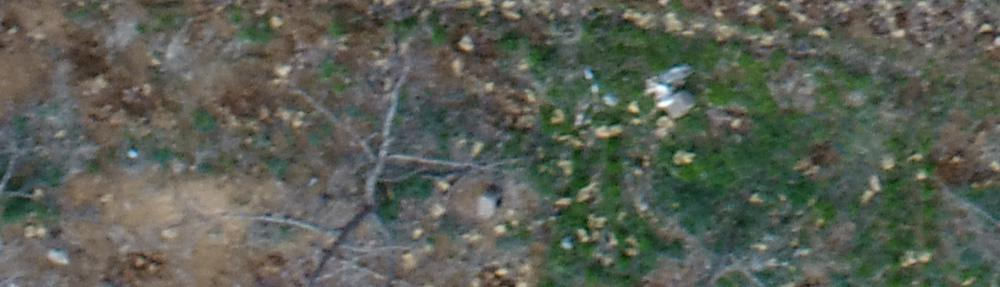apple: (235, 36, 484, 277)
